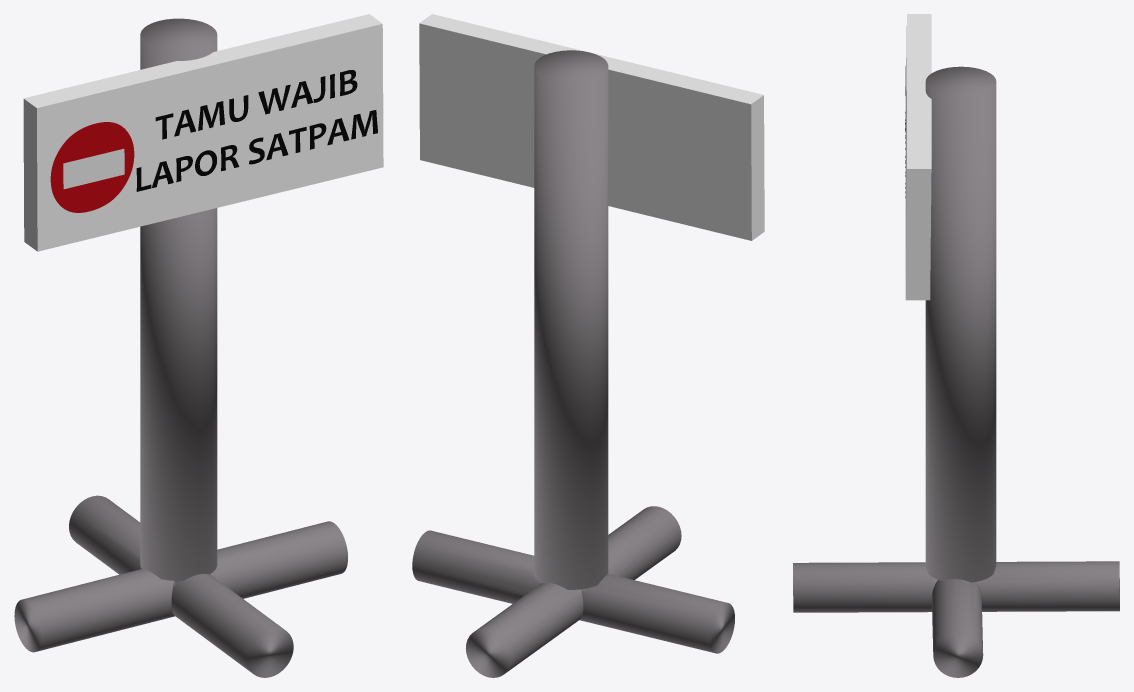
Rendered from Tamu Wajib Lapor Satpam.fbx.
3 renders of one model, left to right at view 1: azimuth 30°, elevation 25°; view 2: azimuth 150°, elevation 25°; view 3: azimuth 270°, elevation 25°, orthographic. The views are drawn at different scales.
Parts seen in each view (by area): view 1: Plane, Cylinder.002, Cylinder.001, Cylinder, Text, Text.001, Plane.001; view 2: Plane, Cylinder.002, Cylinder.001, Cylinder; view 3: Cylinder.002, Cylinder, Plane, Cylinder.001.
Boxes of the visible parts, <box> form: Plane: <box>23,14,383,251</box>; Cylinder.002: <box>140,18,217,580</box>; Cylinder.001: <box>14,521,347,652</box>; Cylinder: <box>69,495,293,677</box>; Text: <box>136,70,377,191</box>; Text.001: <box>50,122,134,212</box>; Plane.001: <box>63,148,124,189</box>; Plane: <box>419,14,764,240</box>; Cylinder.002: <box>534,50,608,589</box>; Cylinder.001: <box>412,530,734,653</box>; Cylinder: <box>466,506,681,677</box>; Cylinder.002: <box>925,66,996,582</box>; Cylinder: <box>793,561,1119,612</box>; Plane: <box>905,14,931,300</box>; Cylinder.001: <box>931,579,983,677</box>.
Bounding box in the file's own units: 112 × 178 × 99.45.
